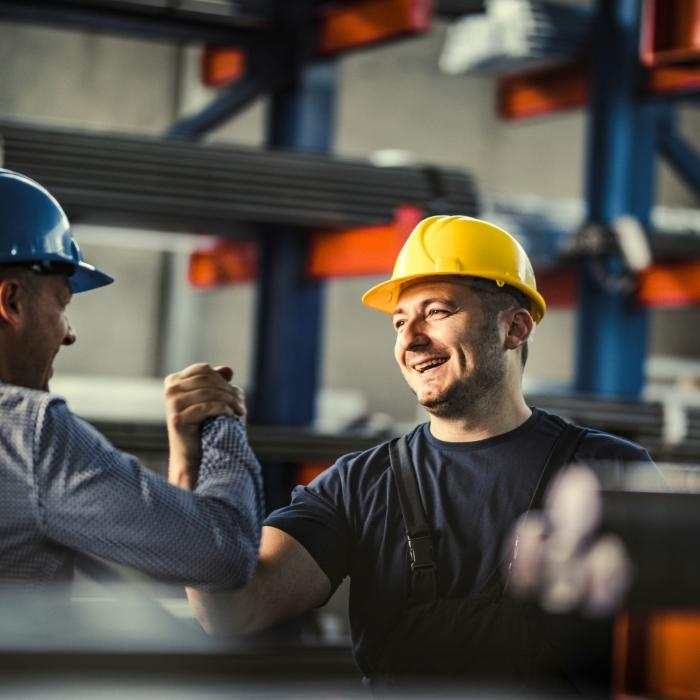helmet: (361, 218, 548, 324), (1, 167, 116, 298)
